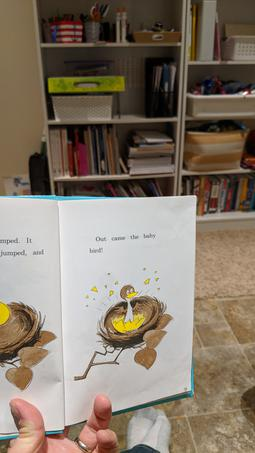text block: (81, 226, 159, 255), (1, 236, 50, 263)
